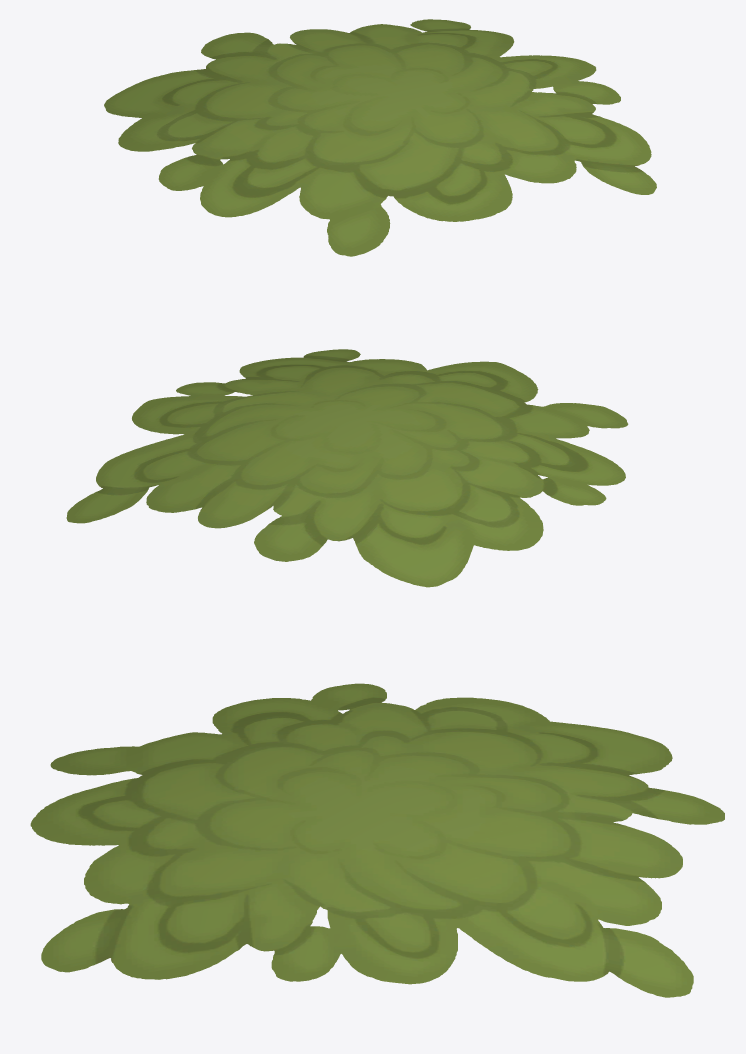
File: Tree_Leaves.fbx
3 views of the same model, one above another, from view 1: azimuth 30°, elevation 25°; view 2: azimuth 150°, elevation 25°; view 3: azimuth 270°, elevation 25° (orthographic). The views are drawn at different scales.
Parts seen in each view (by area): view 1: Tree_Leaves; view 2: Tree_Leaves; view 3: Tree_Leaves.
Part boxes in pixels (left/top/right/bottom): Tree_Leaves: left=104, top=19, right=656, bottom=256; Tree_Leaves: left=66, top=349, right=628, bottom=587; Tree_Leaves: left=30, top=683, right=724, bottom=997.
Bounding box in the file's own units: 1 × 0.152 × 1.
1 material, 1 textured.
